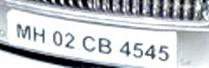0: (50, 28, 63, 46)
2: (62, 31, 76, 49)
4: (118, 39, 131, 57), (144, 43, 155, 59)
5: (156, 43, 169, 62), (131, 41, 143, 58)
B: (97, 36, 111, 54)
C: (79, 34, 97, 53)
H: (32, 25, 45, 43)
M: (14, 22, 31, 40)
